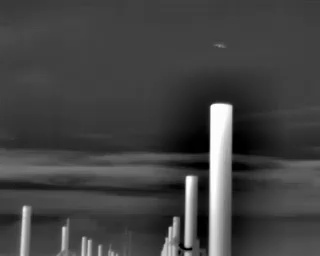BIRD: (212, 41, 228, 53)
